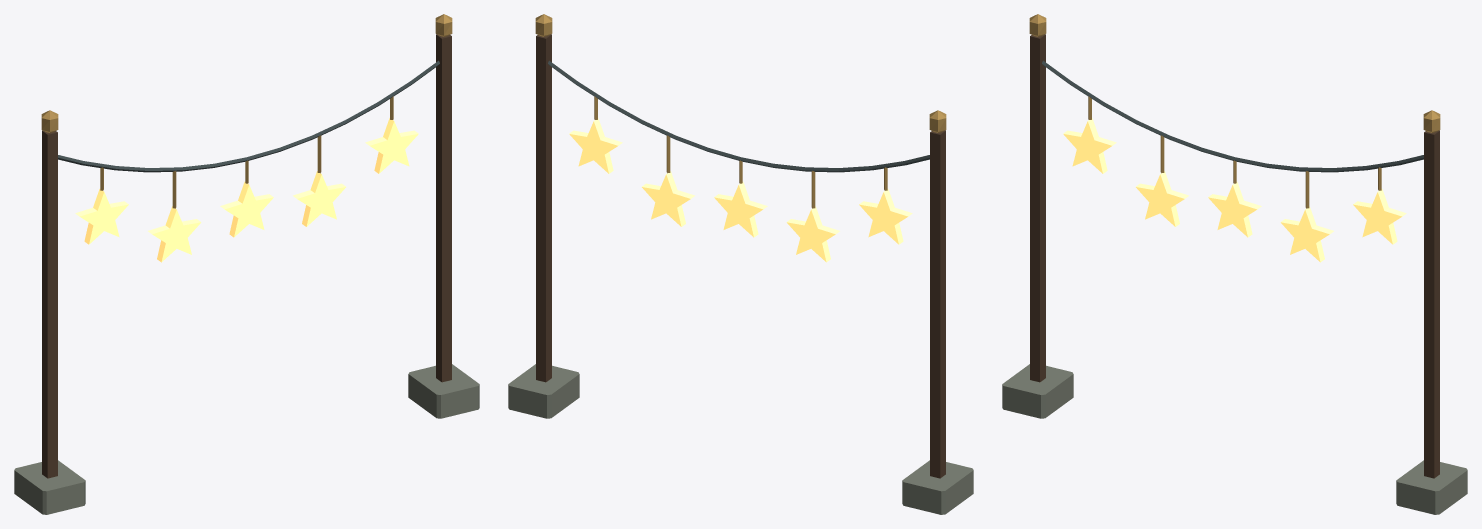
Rendered from decor_star_lights.glb.
The picture shows the model from 3 angles, left to right: view 1: azimuth 30°, elevation 25°; view 2: azimuth 150°, elevation 25°; view 3: azimuth 330°, elevation 25°; orthographic projection.
Visible parts, largest first — view 1: geometry, light; view 2: geometry, light; view 3: geometry, light.
Boxes of the visible parts, <box> form: geometry: <box>14,14,479,514</box>; light: <box>75,118,418,262</box>; geometry: <box>508,14,973,514</box>; light: <box>569,118,912,262</box>; geometry: <box>1002,14,1467,514</box>; light: <box>1063,118,1406,262</box>.
Size of the model in its own units: 1.93 by 1.64 by 0.24.
